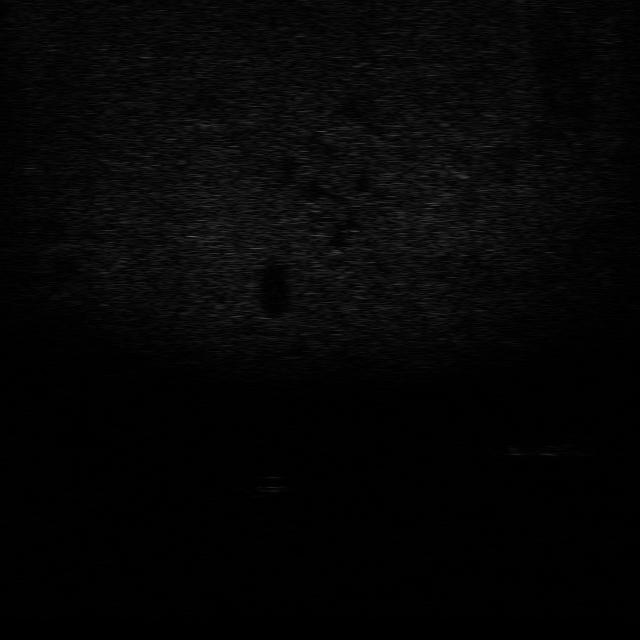ball: (250, 474, 296, 494)
human body: (497, 432, 598, 458)
